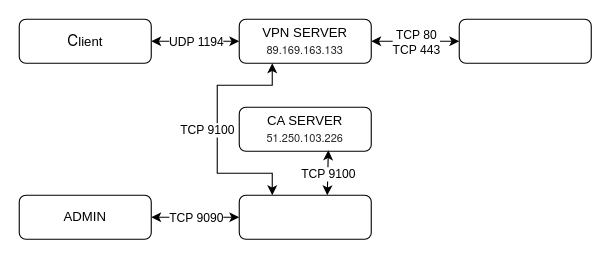
Some shapes in this 611 by 259 pixel diagram are drawn without their labels. The centre of each missing label's shape, as x and y in pixels:
"ALERTING SERVER" belongs at (304,216).
"Internet" belongs at (524,40).
